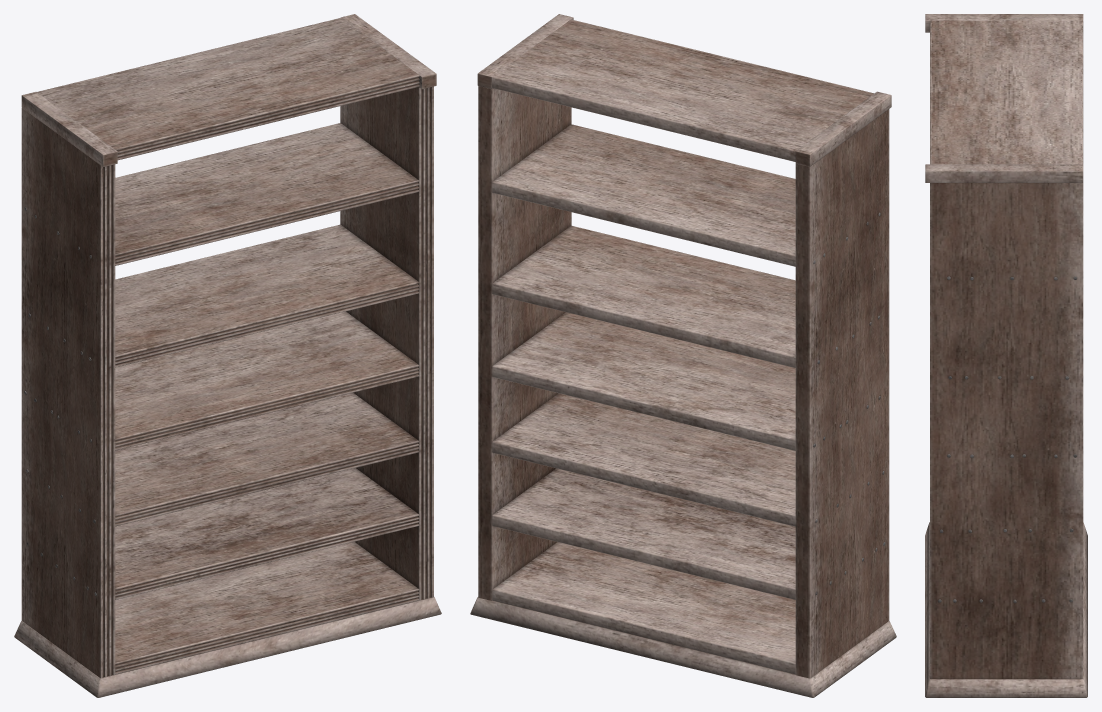
Rendered from wooden_bookshelf_worn.glb.
The picture shows the model from 3 angles, left to right: view 1: azimuth 30°, elevation 25°; view 2: azimuth 150°, elevation 25°; view 3: azimuth 270°, elevation 25°; orthographic projection. The views are drawn at different scales.
Parts seen in each view (by area): view 1: wooden_bookshelf_worn; view 2: wooden_bookshelf_worn; view 3: wooden_bookshelf_worn.
Boxes of the visible parts, bbox=[...] form: wooden_bookshelf_worn: bbox=[14, 14, 441, 697]; wooden_bookshelf_worn: bbox=[470, 14, 896, 697]; wooden_bookshelf_worn: bbox=[925, 14, 1087, 697].
Size of the model in its own units: 1.37 by 2.06 by 0.5813.
Materials: 1 (1 with a texture image).
